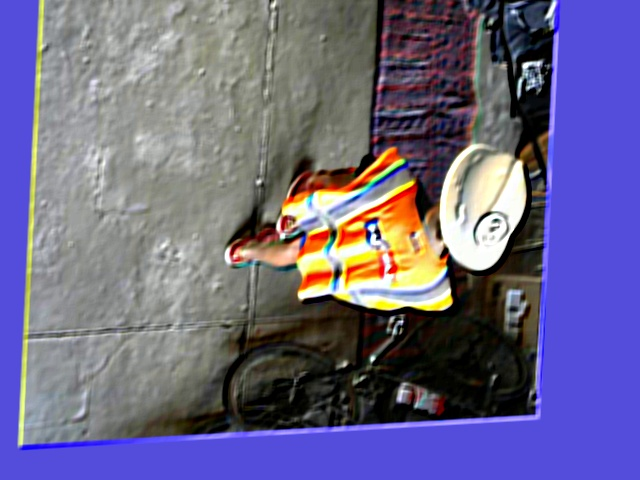three: (475, 212, 511, 248)
